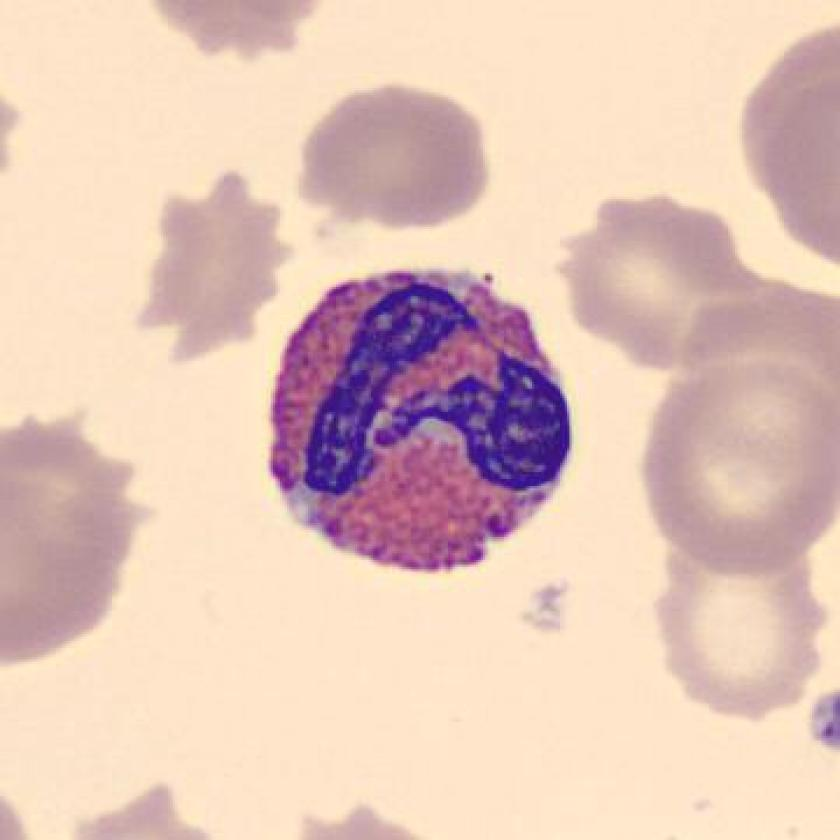eosinophil: (260, 253, 587, 591)
